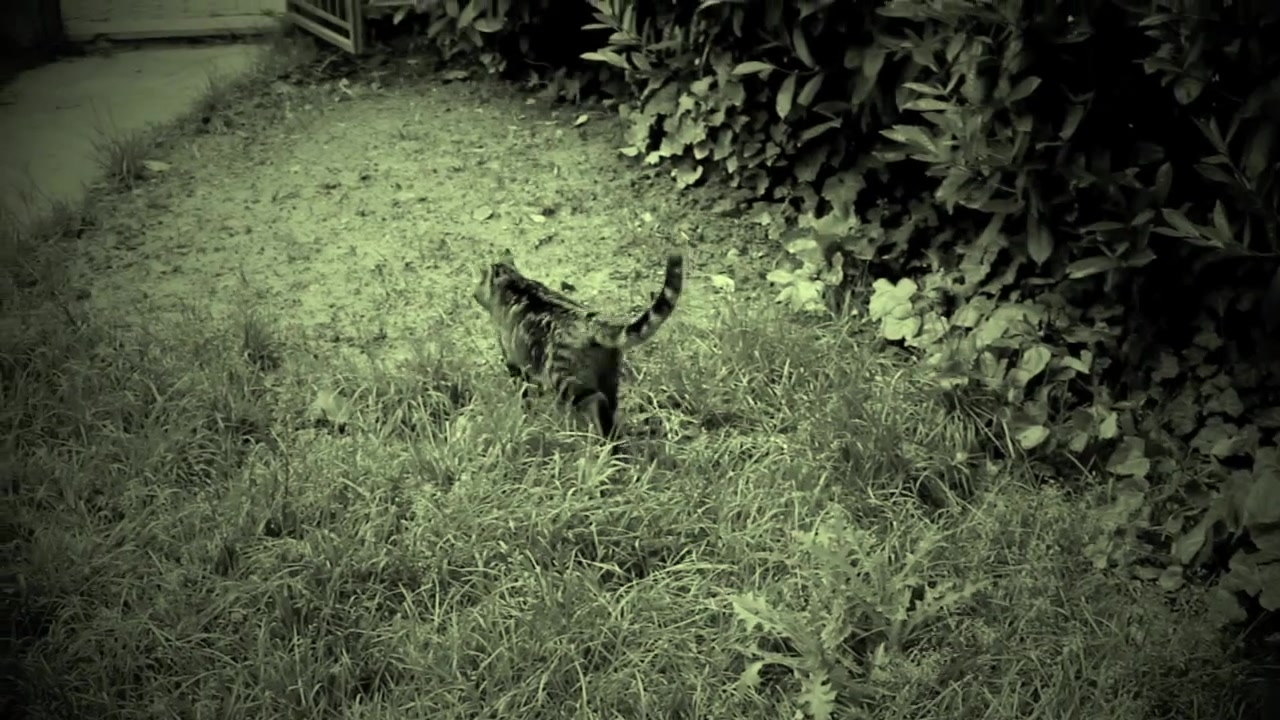cat: (463, 243, 686, 442)
